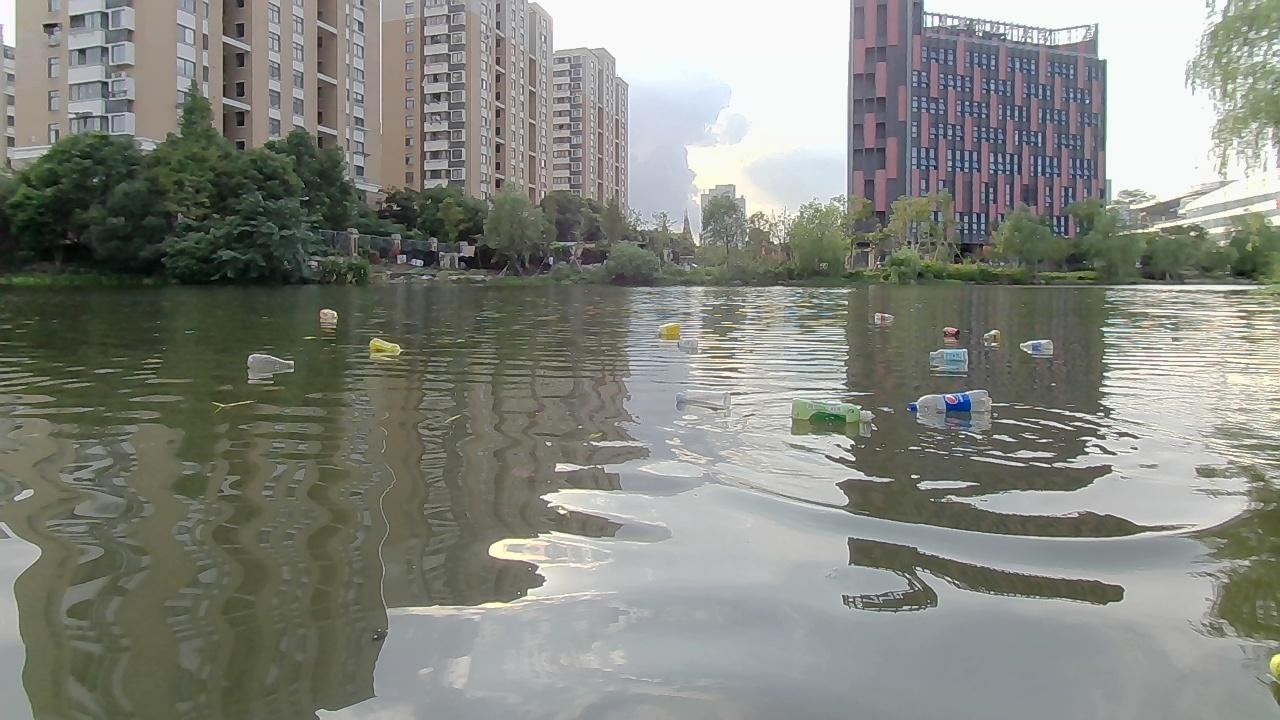bottle: (784, 394, 878, 432), (911, 388, 992, 424), (675, 382, 736, 414), (245, 348, 291, 376), (925, 346, 965, 366), (368, 338, 405, 356), (312, 303, 341, 324), (1021, 338, 1054, 356), (653, 320, 681, 339), (674, 335, 702, 353), (872, 307, 894, 327), (983, 326, 998, 344), (946, 325, 960, 342)
